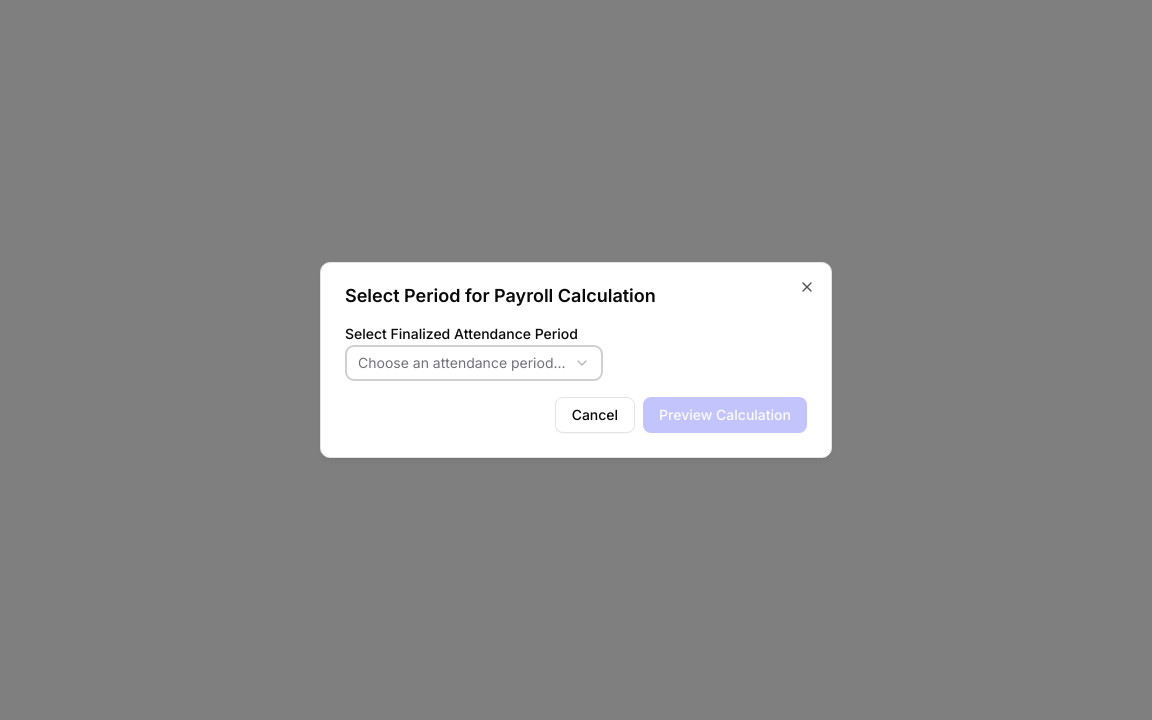
Test: PayrollCalculationModal › Period Selection Step › should show only finalized periods in selection
# Open select dropdown
Click the dropdown.
click(474, 363)  # box [345, 345, 603, 381]
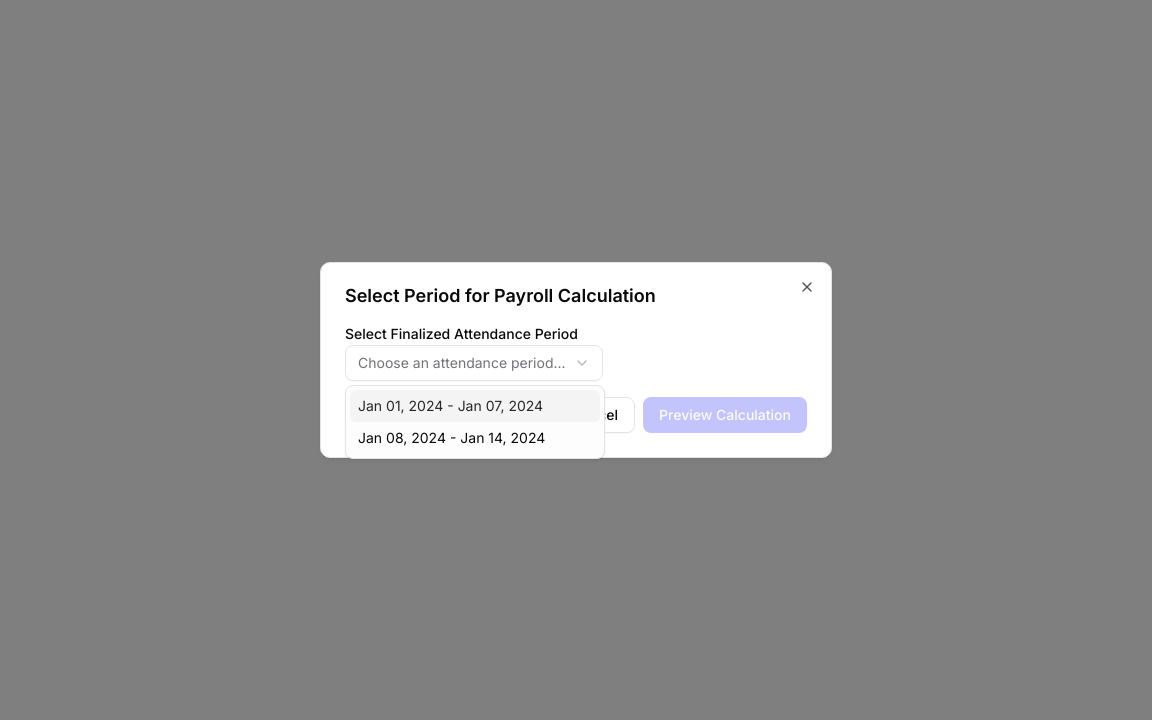
Result: the text "Jan 01, 2024 - Jan 07, 2024" is shown at [358, 396, 543, 416]
Result: the text "Jan 08, 2024 - Jan 14, 2024" is shown at [358, 428, 545, 448]
